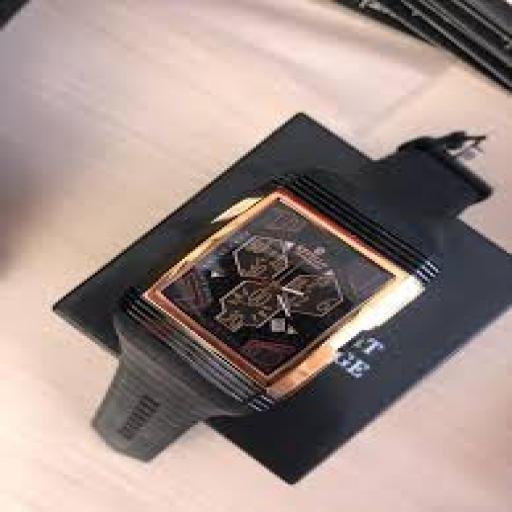KolSaati: (56, 131, 460, 495)
